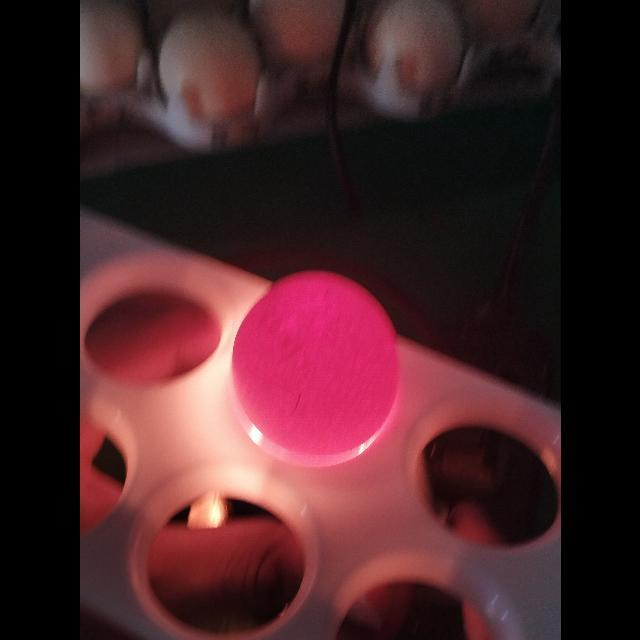Infertile: (226, 269, 404, 463)
